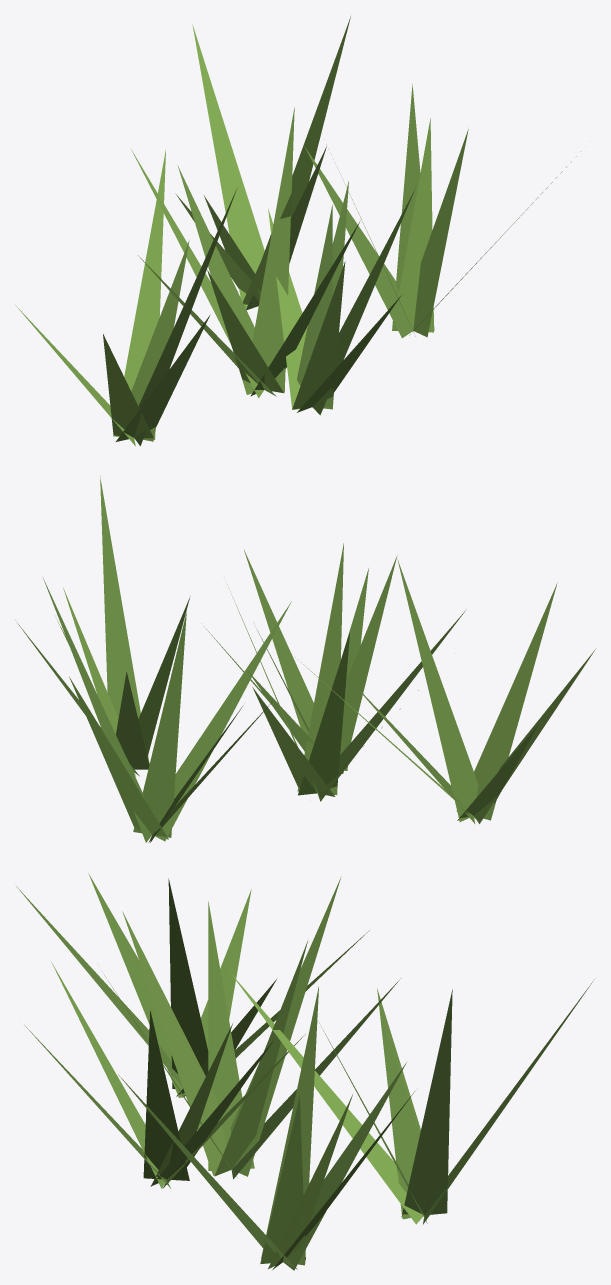
Rendered from nat-capim.gltf.
The picture shows the model from 3 angles, top to bottom: view 1: azimuth 30°, elevation 25°; view 2: azimuth 150°, elevation 25°; view 3: azimuth 270°, elevation 25°; orthographic projection. The views are drawn at different scales.
Visible parts, largest first — view 1: nat-capim; view 2: nat-capim; view 3: nat-capim.
Boxes of the visible parts, x1,y1,x2,y2 form: nat-capim: (15,16,576,446); nat-capim: (15,476,595,842); nat-capim: (16,873,594,1270).
Size of the model in its own units: 0.7072 by 0.3327 by 0.6236.
